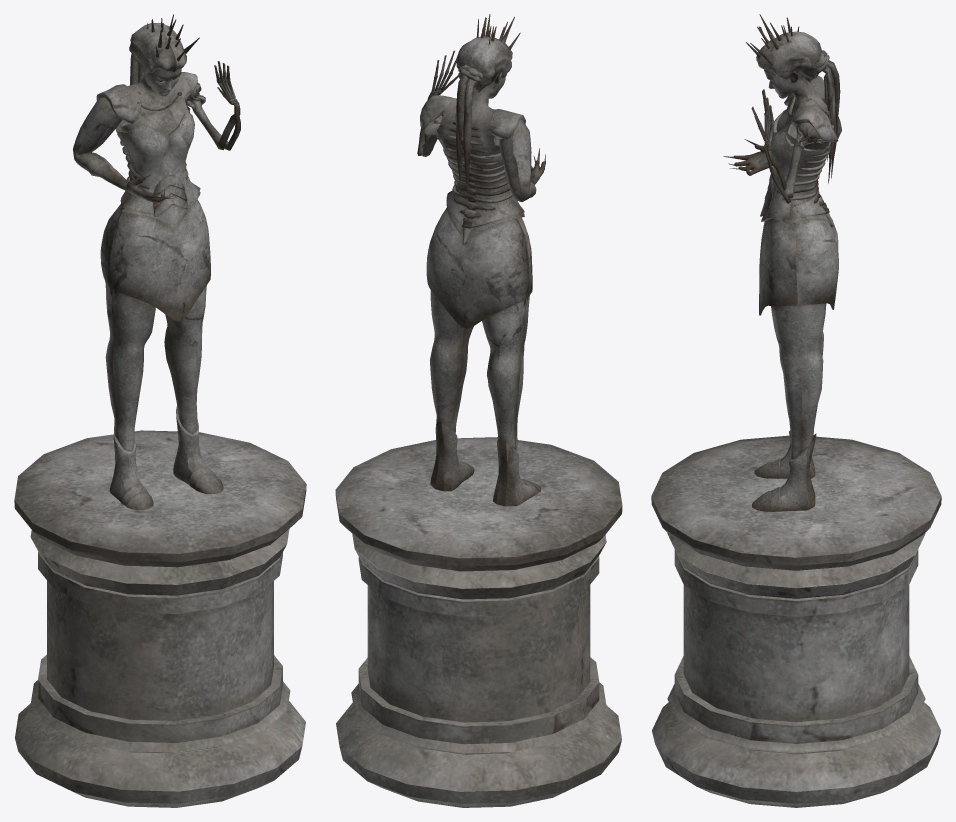
The model's file is Statue_LadyDeath.fbx.
The picture shows the model from 3 angles, left to right: view 1: azimuth 30°, elevation 25°; view 2: azimuth 150°, elevation 25°; view 3: azimuth 270°, elevation 25°; orthographic projection.
Visible parts, largest first — view 1: Statue_LadyDeath; view 2: Statue_LadyDeath; view 3: Statue_LadyDeath.
Boxes of the visible parts, <box> form: Statue_LadyDeath: <box>14,14,306,807</box>; Statue_LadyDeath: <box>335,14,622,807</box>; Statue_LadyDeath: <box>651,14,941,807</box>.
Size of the model in its own units: 129 by 361 by 129.
